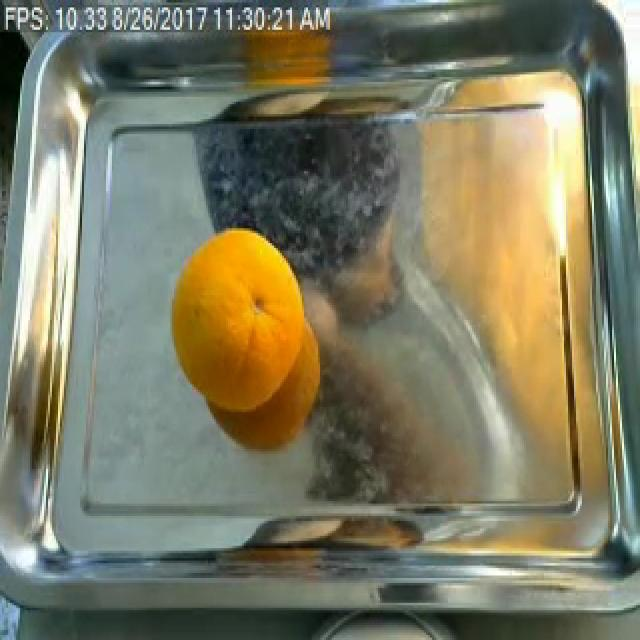Fruit: (408, 97, 572, 439), (164, 216, 320, 437), (432, 60, 590, 124)
